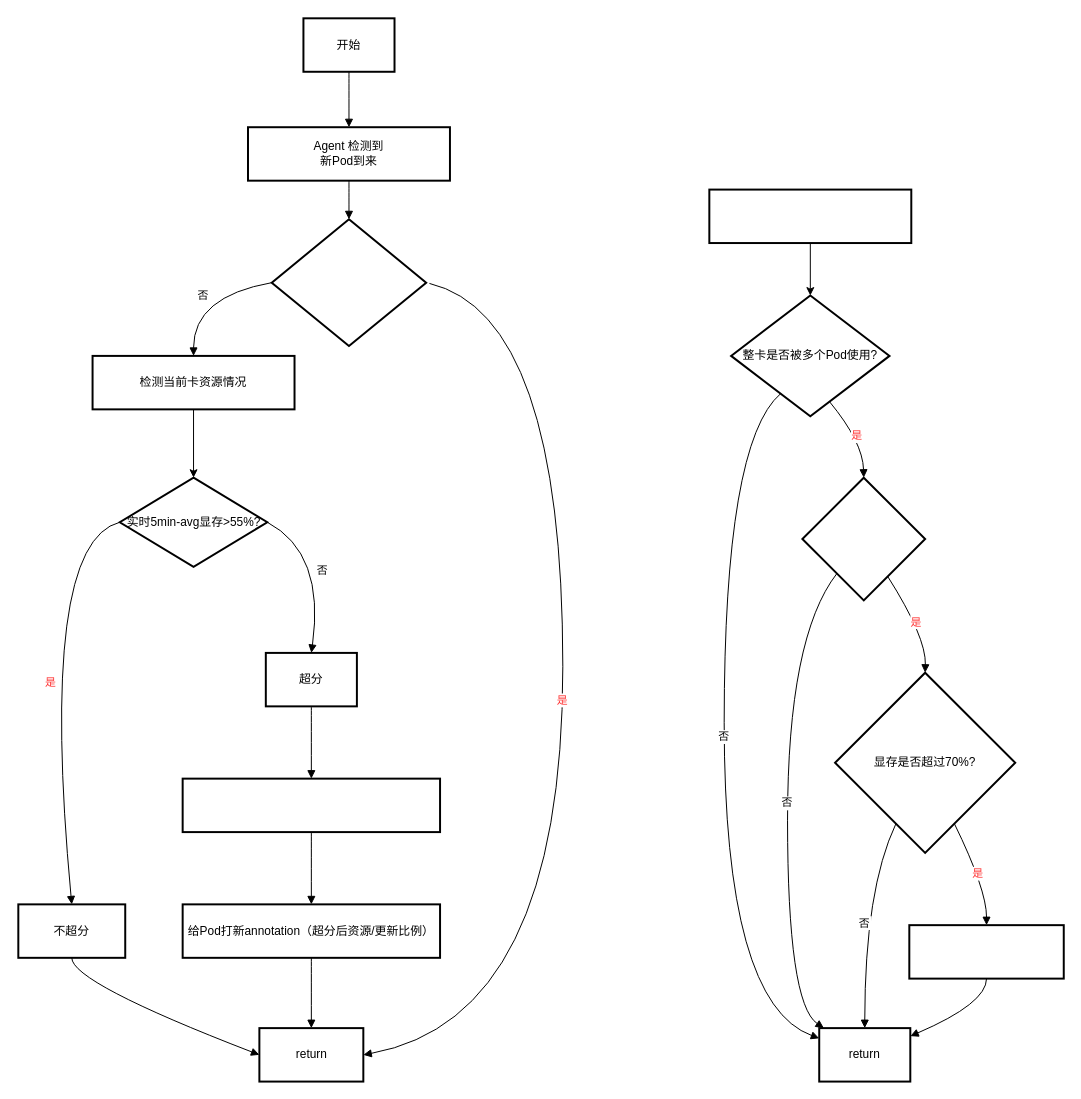
This 1081x1099 diagram has some shape labels left out. The shapes that lost their labels are listed below. From the top down, each one's centre as x and y in pixels, then its label:
At point (810, 216): "显存实时检测".
At point (348, 282): "Pod 是否使用整卡?".
At point (863, 538): "当前显卡 是否超分?".
At point (311, 805): "获取物理机类型，配置超分比例".
At point (986, 951): "调用驱逐接口".
